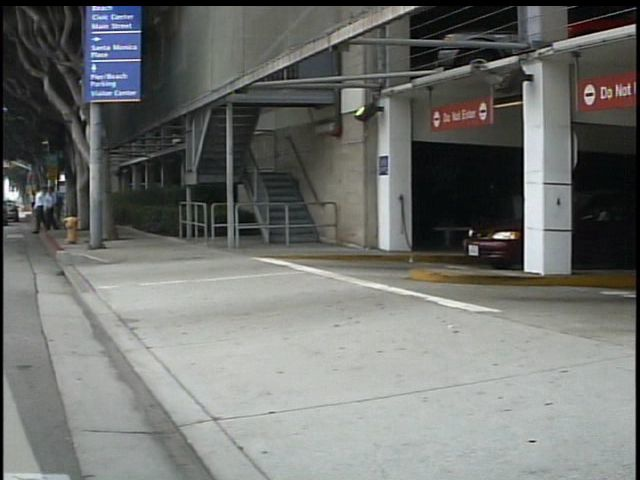person: (31, 186, 47, 220)
